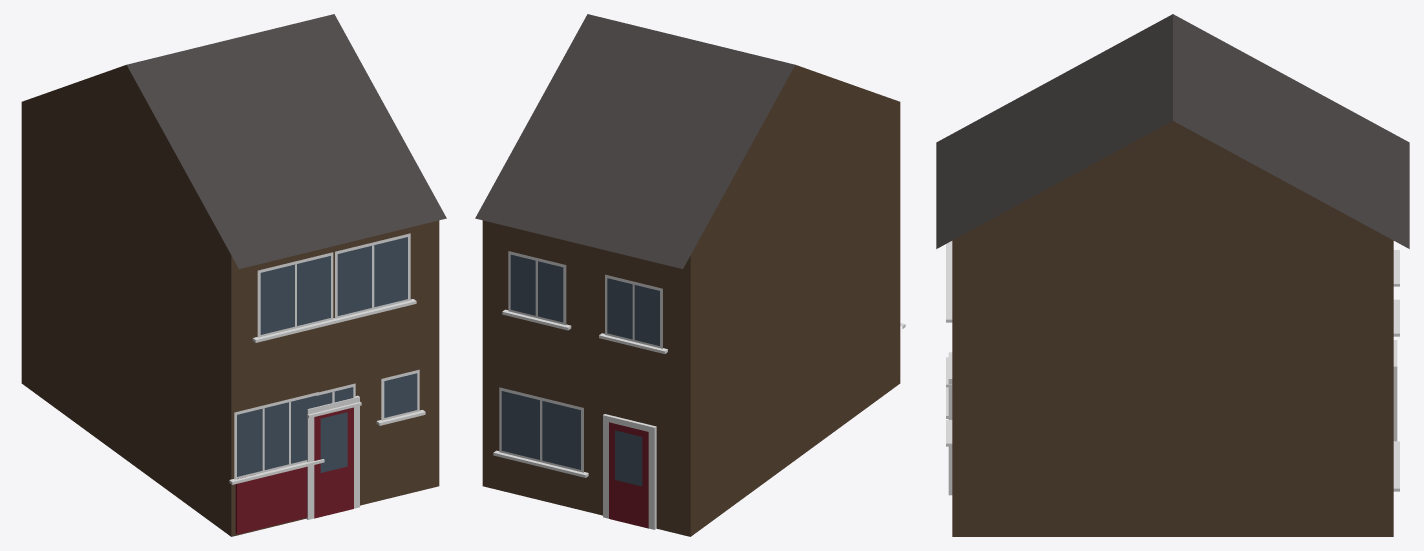
Rendered from nw-rowhouse-red-panel-door__brown-red__2__gable__long__solid.glb.
3 views of the same model, side by side, from view 1: azimuth 30°, elevation 25°; view 2: azimuth 150°, elevation 25°; view 3: azimuth 270°, elevation 25° (orthographic). The views are drawn at different scales.
Visible parts, largest first — view 1: nw-rowhouse-red-panel-door__brown-red__2__gable__long__solid; view 2: nw-rowhouse-red-panel-door__brown-red__2__gable__long__solid; view 3: nw-rowhouse-red-panel-door__brown-red__2__gable__long__solid.
Part boxes in pixels (x1,y1,x2,y2): nw-rowhouse-red-panel-door__brown-red__2__gable__long__solid: (21, 14, 446, 536); nw-rowhouse-red-panel-door__brown-red__2__gable__long__solid: (475, 14, 905, 536); nw-rowhouse-red-panel-door__brown-red__2__gable__long__solid: (936, 14, 1409, 536).
Bounding box in the file's own units: 4.78 × 8.59 × 8.86.
